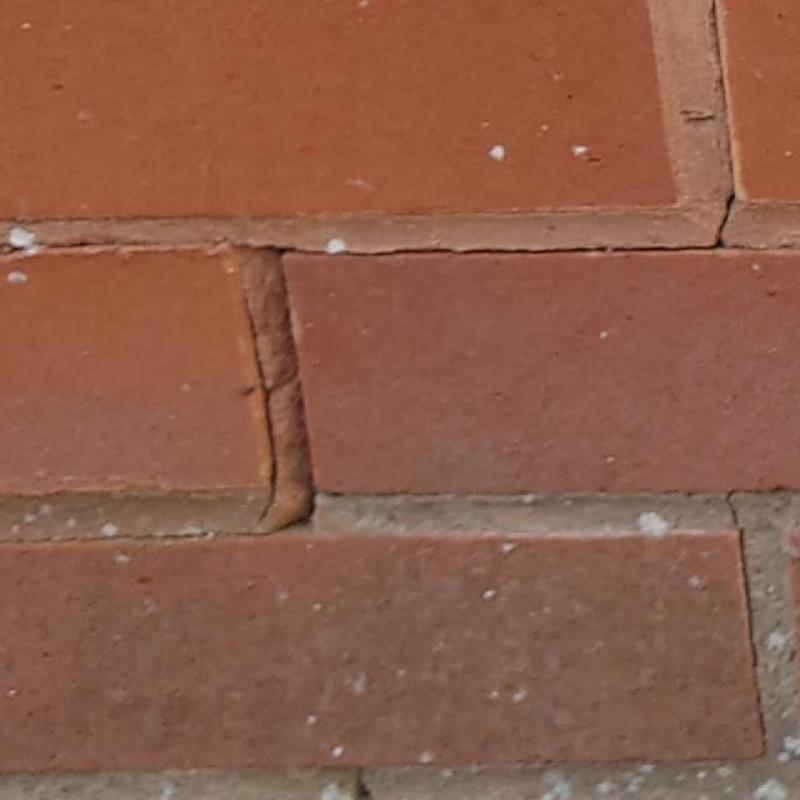crack: (284, 0, 772, 256), (0, 248, 312, 542), (725, 491, 767, 755), (0, 240, 115, 256), (353, 768, 372, 799)
